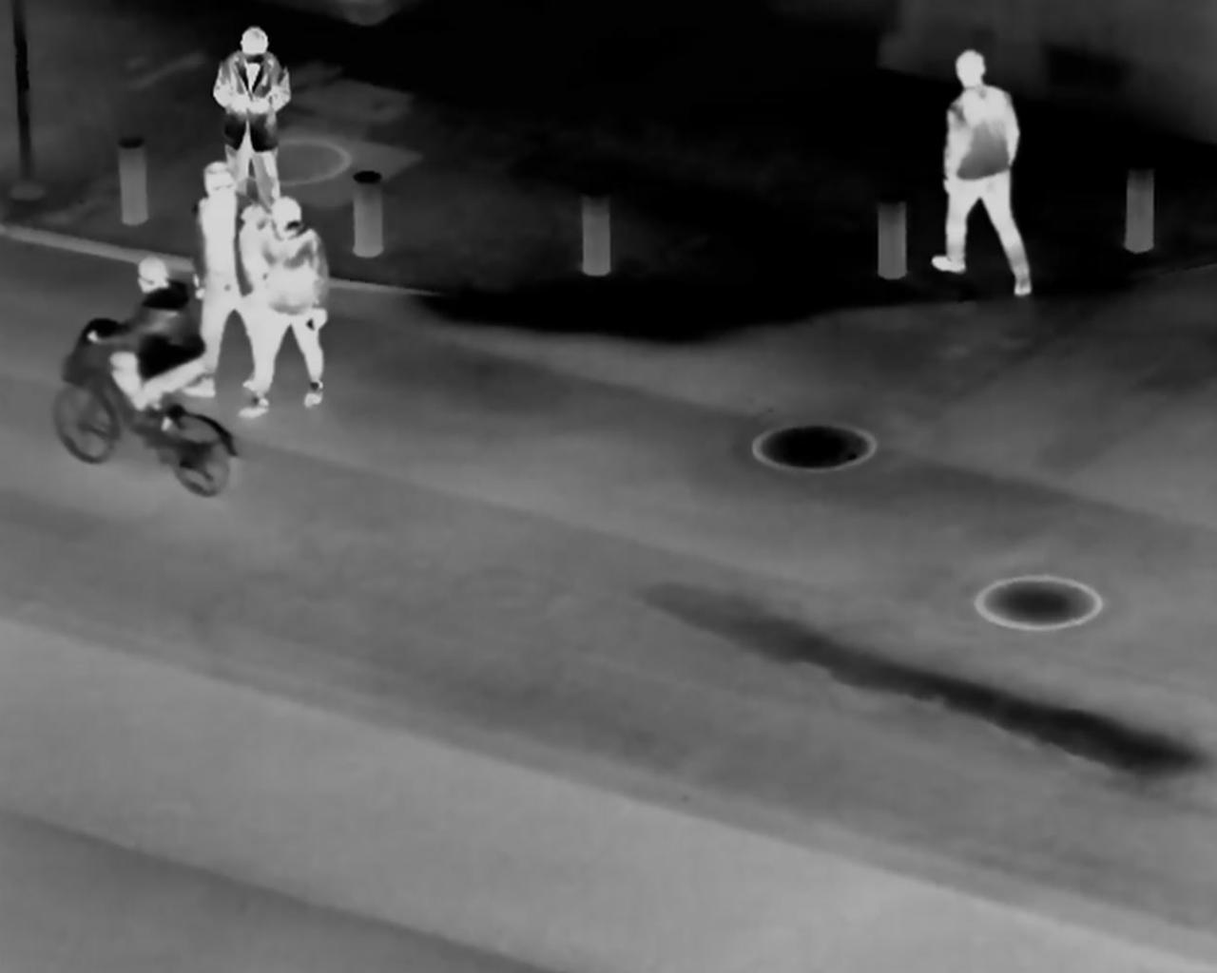person: (928, 45, 1035, 305), (86, 232, 204, 439), (238, 195, 334, 421), (175, 155, 252, 380), (204, 15, 296, 201)
